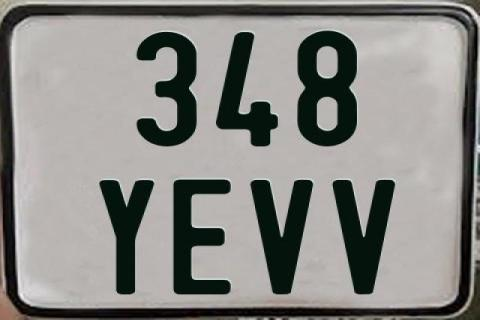0: (215, 31, 283, 151), (136, 32, 198, 150), (294, 30, 356, 148)
E: (170, 179, 234, 297)
V: (329, 179, 396, 296), (249, 180, 312, 294)
Y: (97, 180, 155, 296)
